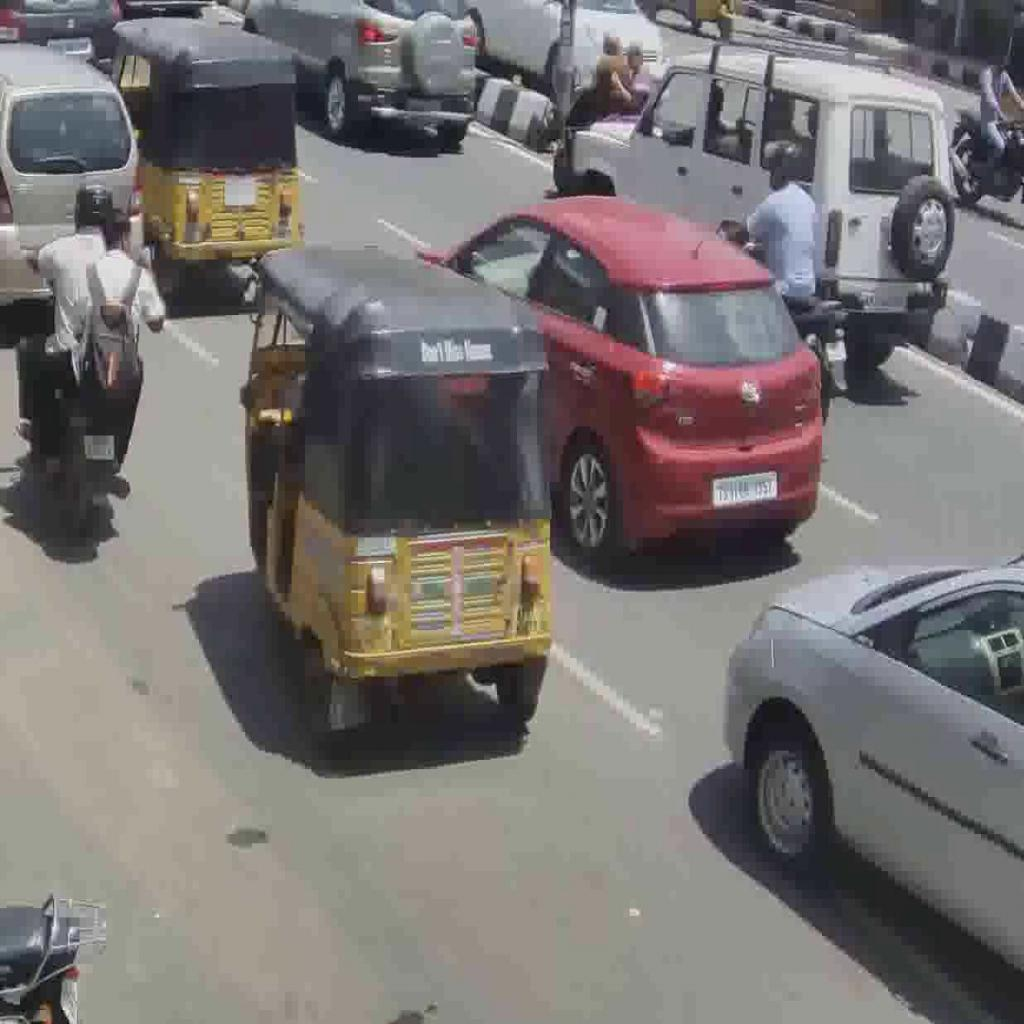helmet: (25, 248, 132, 542), (717, 215, 848, 434)
